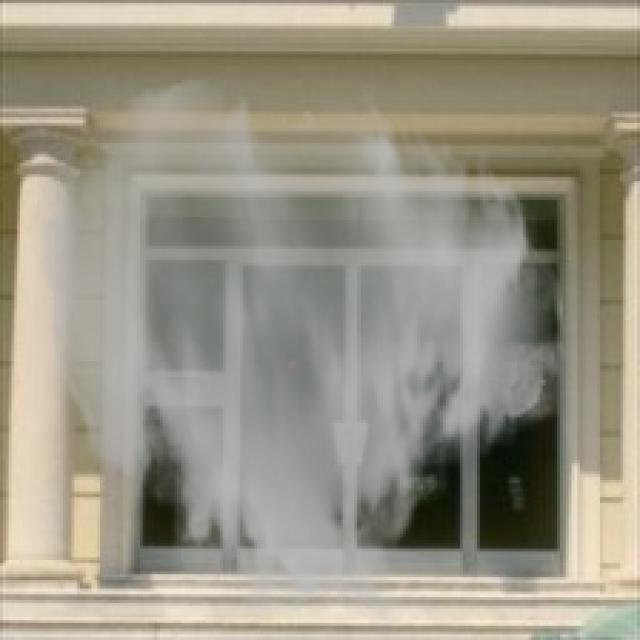Smoke: (26, 74, 572, 637)
